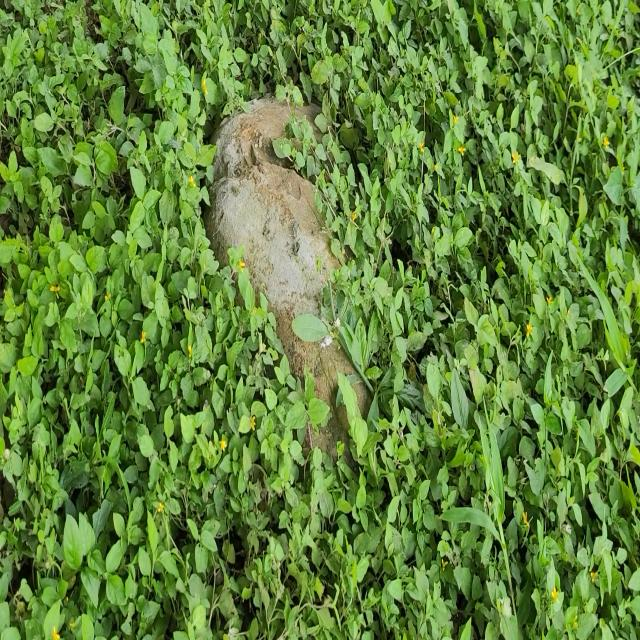stone: (204, 96, 354, 405)
